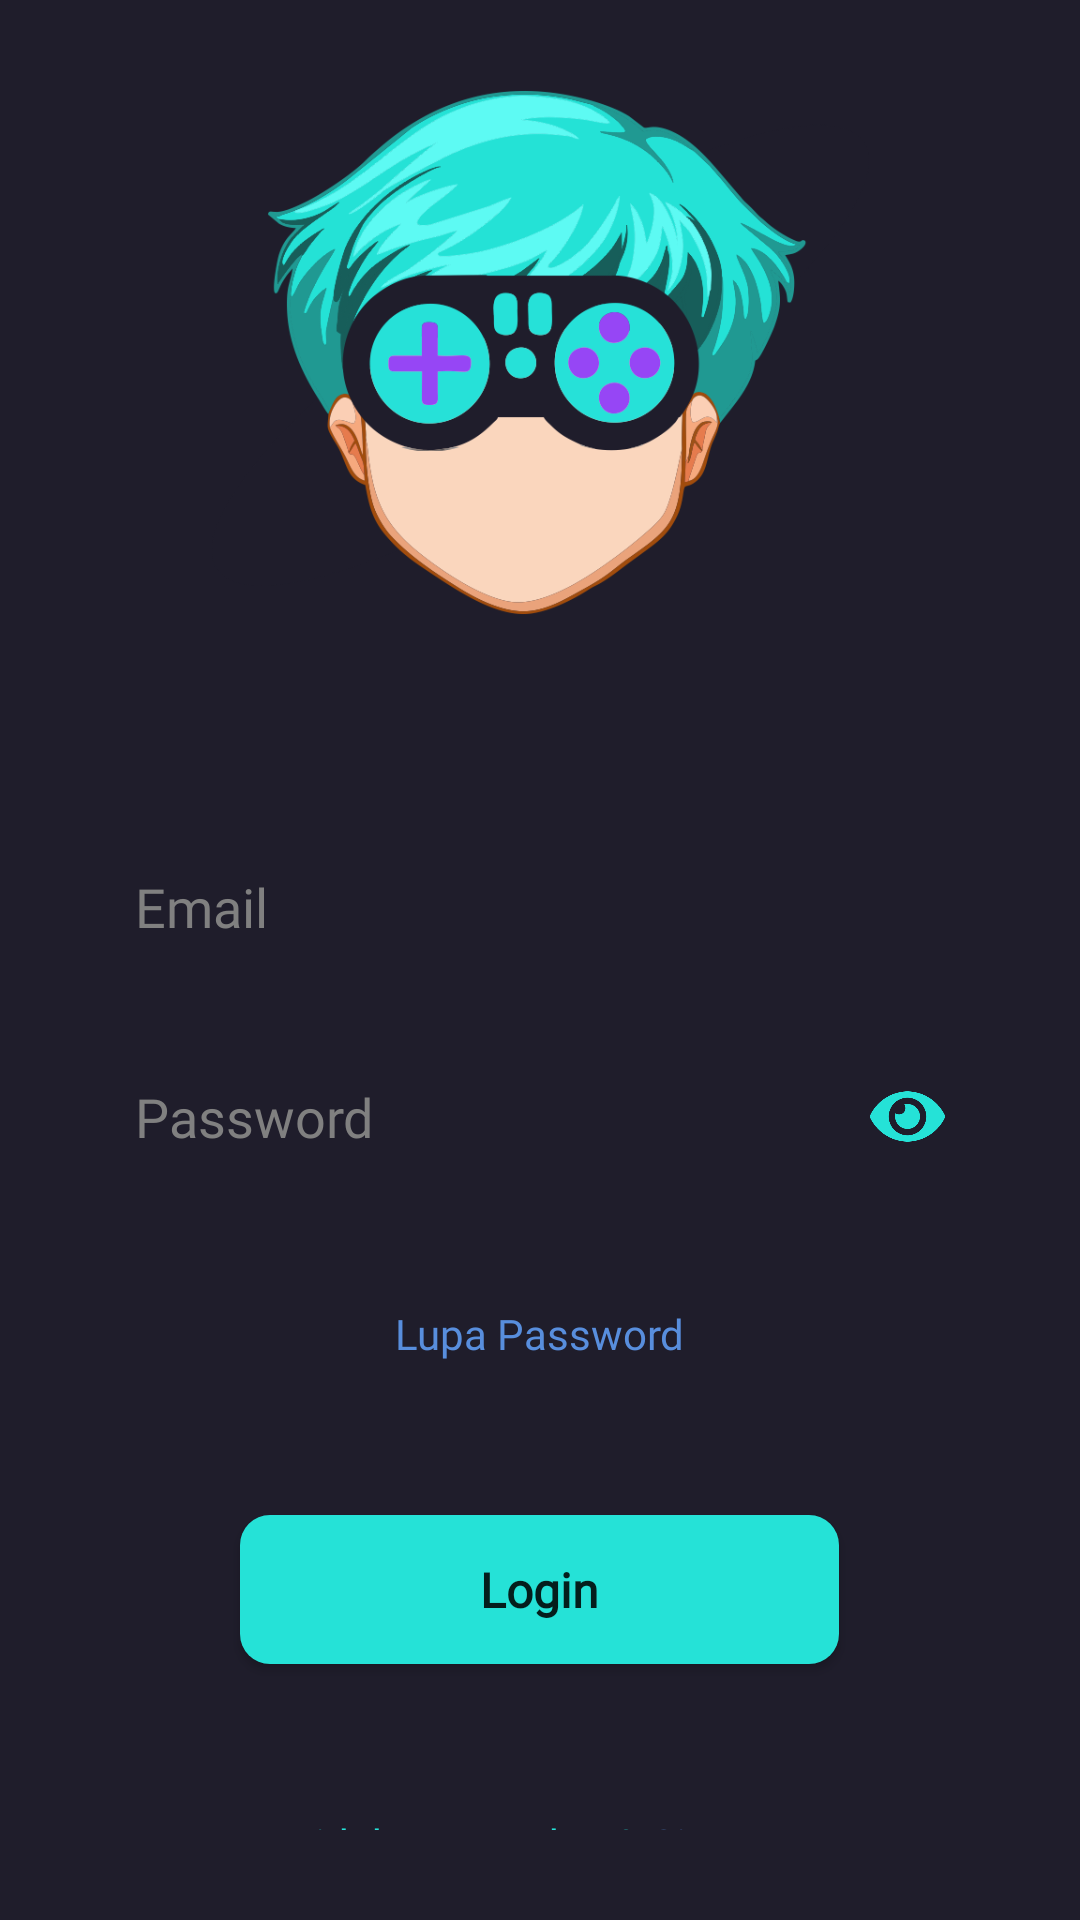

Screen size 1080px×1920px. Icon name, then its box in pixels as (x1, y1, x2, y2):
eye opened: (870, 1091, 945, 1142)
